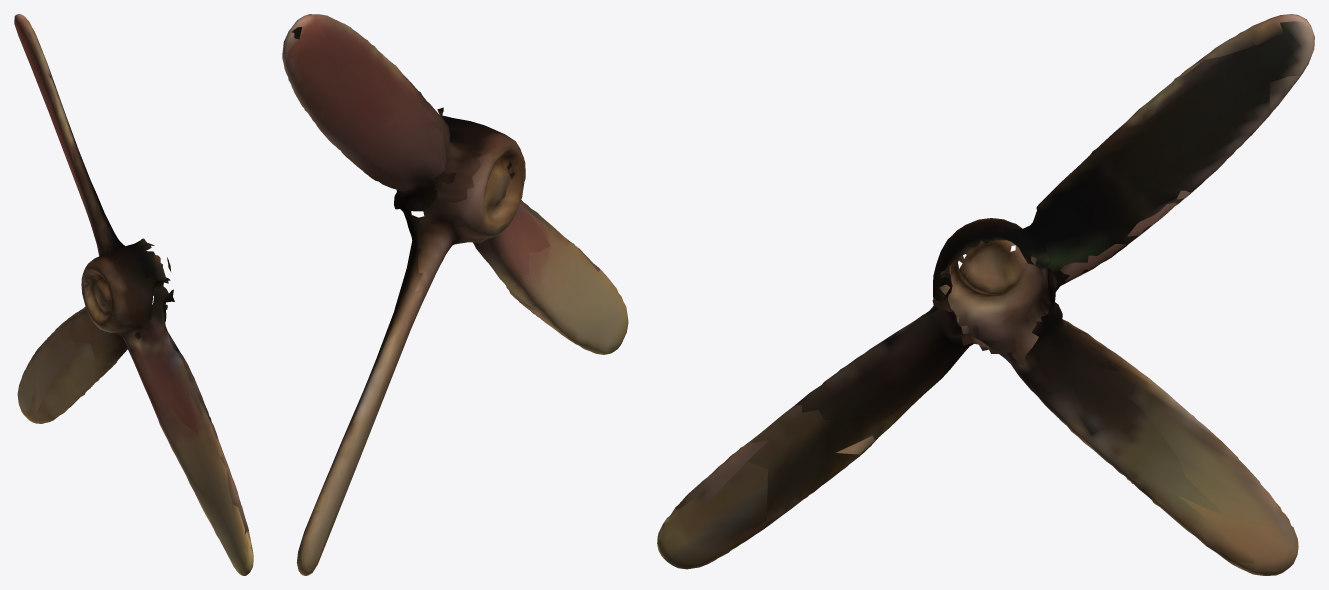
The model's file is aspaIzq.obj.
3 views of the same model, side by side, from view 1: azimuth 30°, elevation 25°; view 2: azimuth 150°, elevation 25°; view 3: azimuth 270°, elevation 25° (orthographic). The views are drawn at different scales.
Parts seen in each view (by area): view 1: aspaIzq_Material.001; view 2: aspaIzq_Material.001; view 3: aspaIzq_Material.001.
Boxes of the visible parts, left/top/right/bottom form: aspaIzq_Material.001: left=14, top=14, right=253, bottom=575; aspaIzq_Material.001: left=282, top=14, right=628, bottom=575; aspaIzq_Material.001: left=657, top=14, right=1314, bottom=575.
Bounding box in the file's own units: 0.0426 × 0.276 × 0.295.
